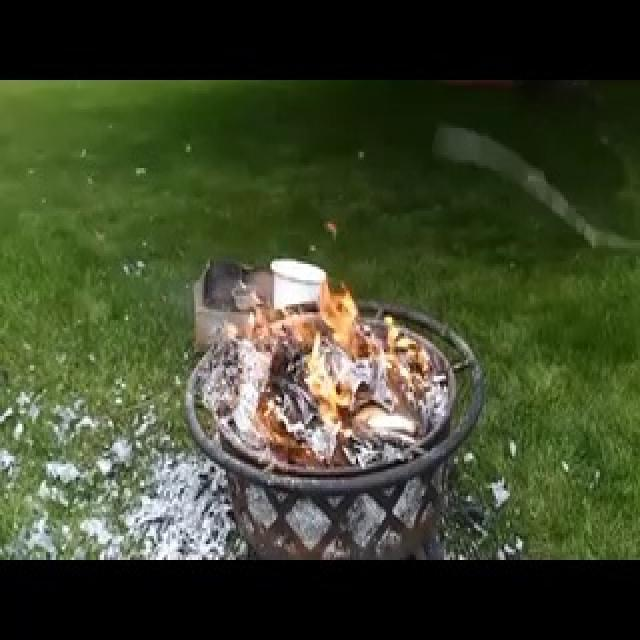fire: (176, 183, 436, 473)
